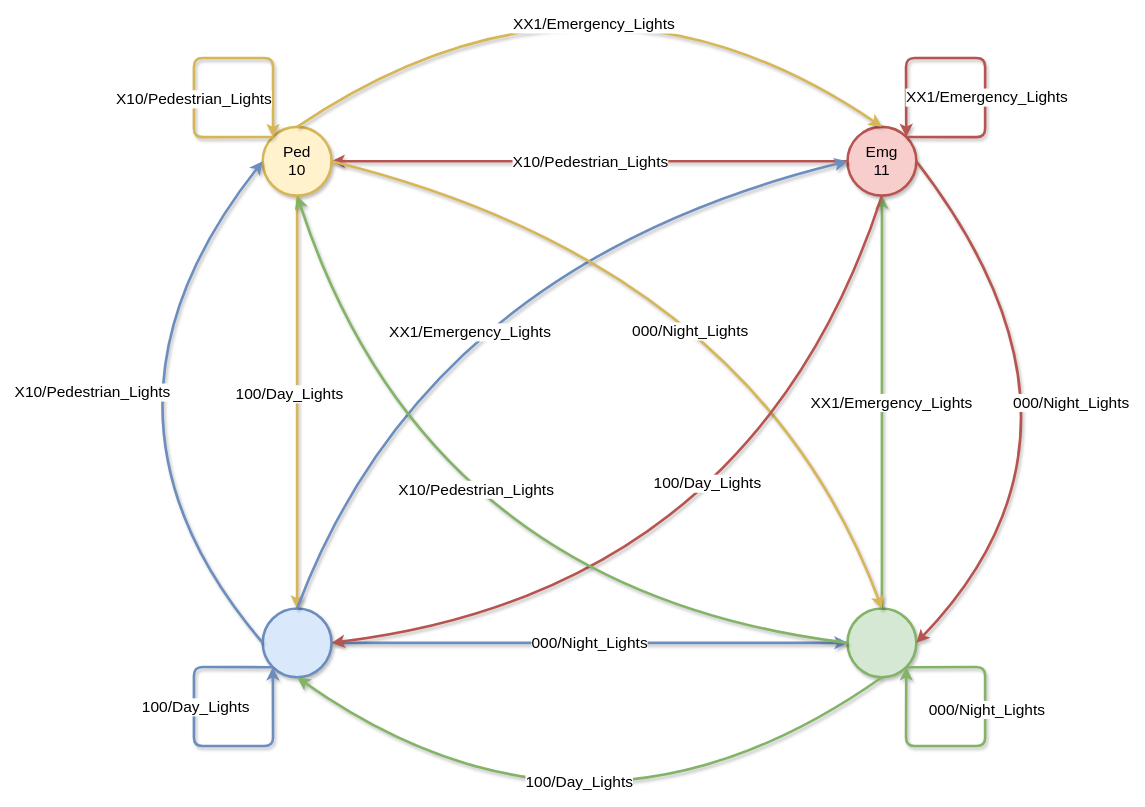
The diagram is 1145 pixels wide and 807 high, and some of its shapes have lost their labels. Here are the shapes that lost their labels. From the top down, the centre of each, then its label:
At point (298, 643): "Day 00".
At point (882, 643): "Night 01".
